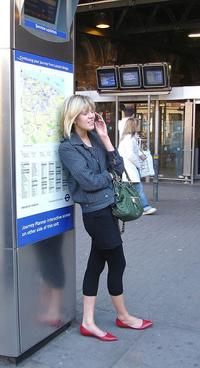person: (59, 94, 155, 343)
